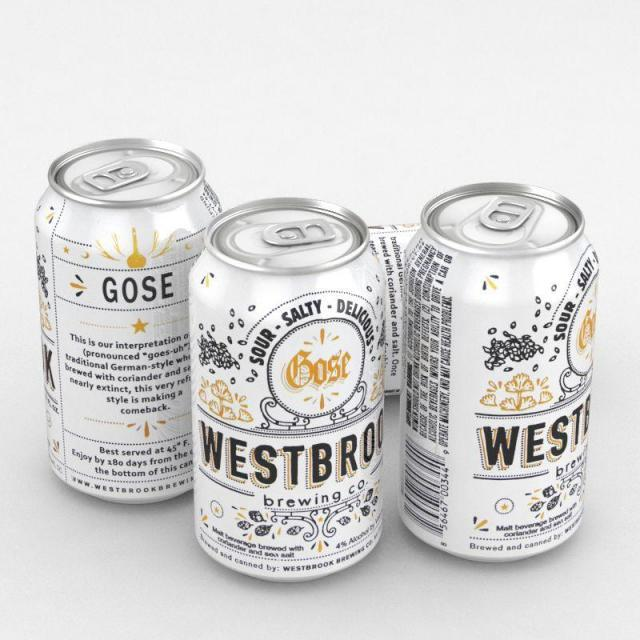beer-can: (188, 196, 394, 574), (402, 188, 590, 568), (31, 137, 220, 512)
